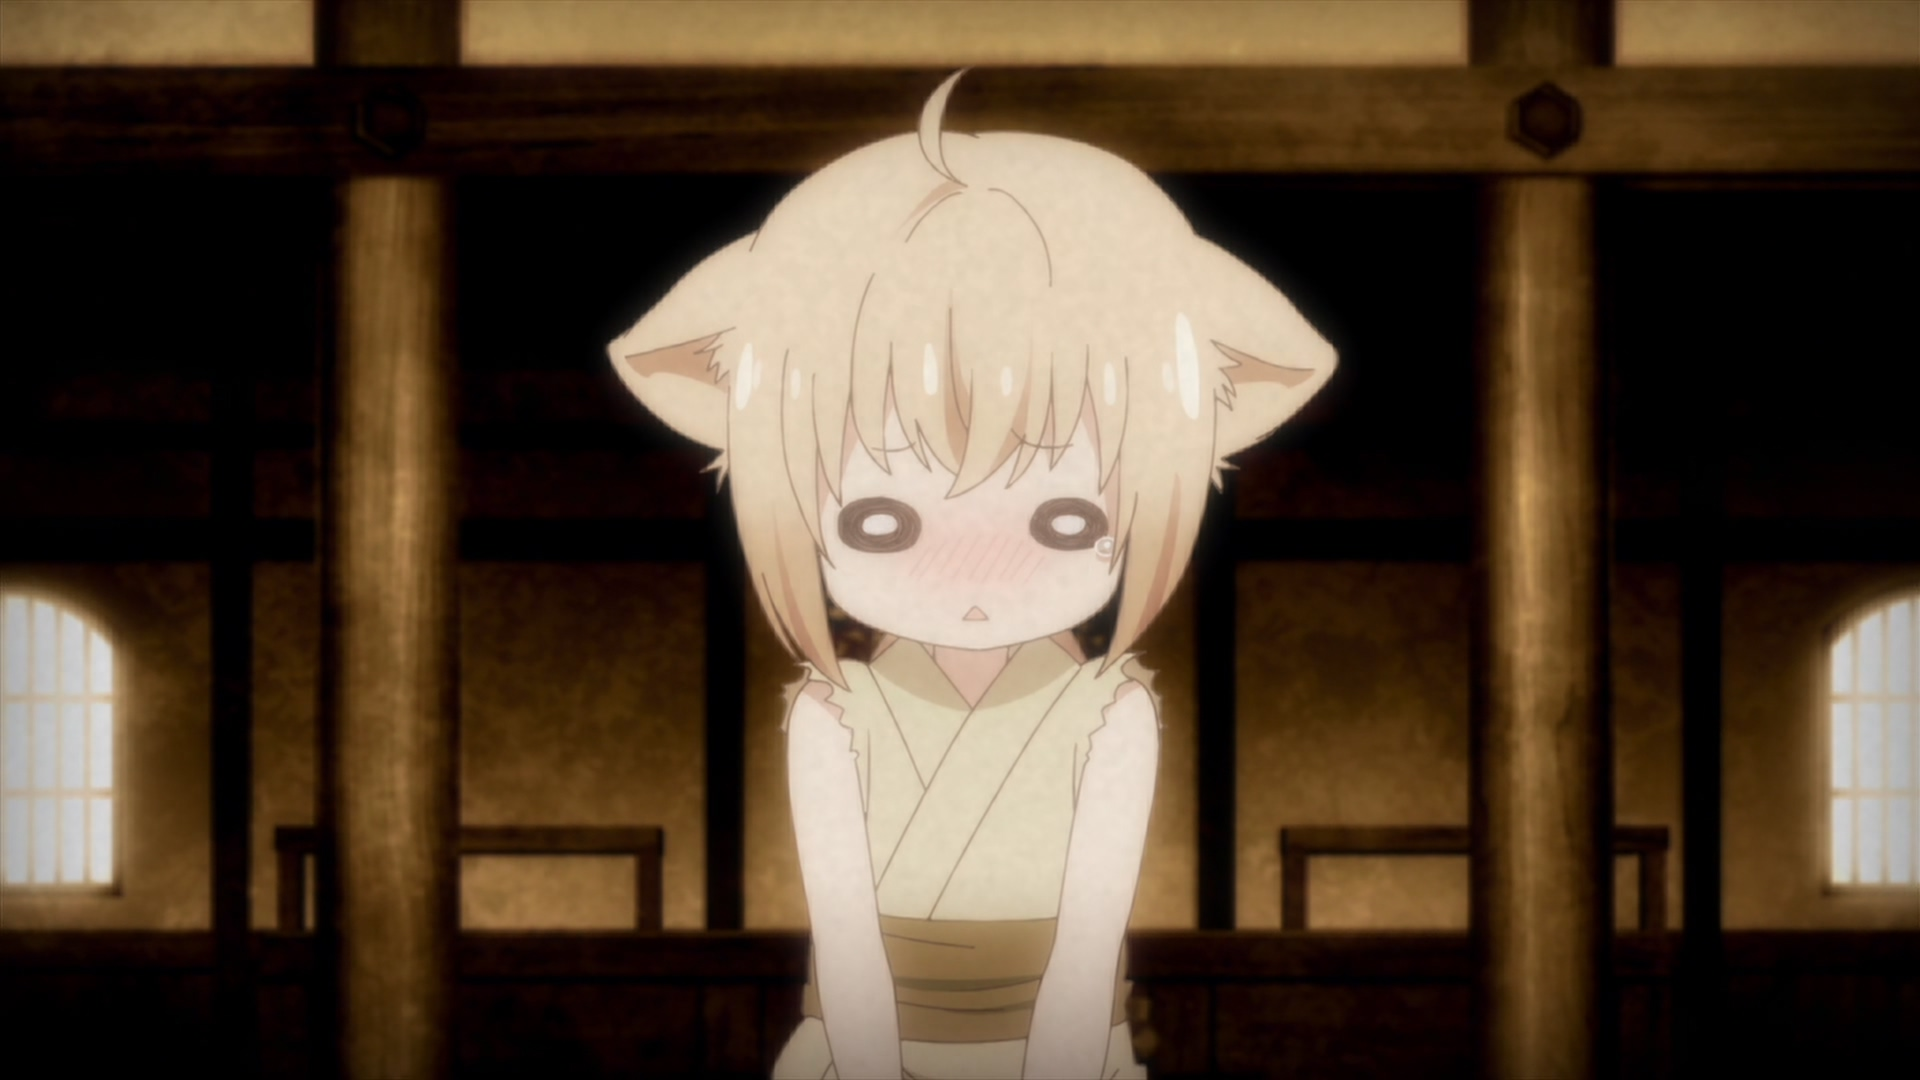柚: (608, 65, 1337, 1080)
